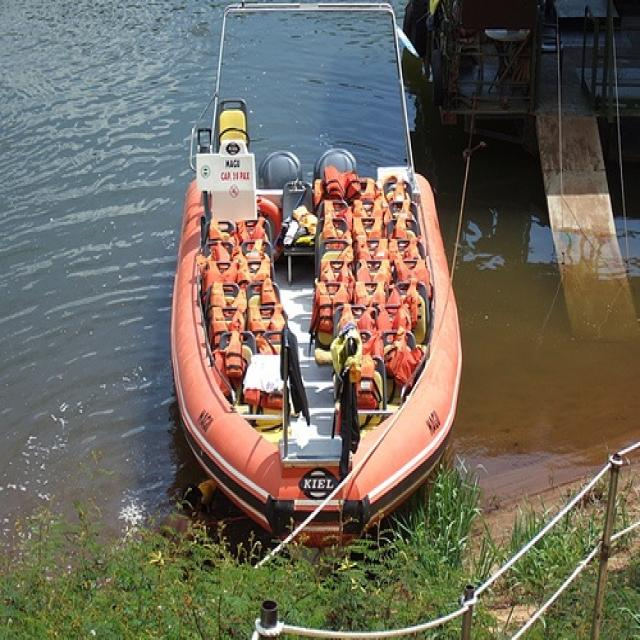boat: (165, 137, 472, 554)
